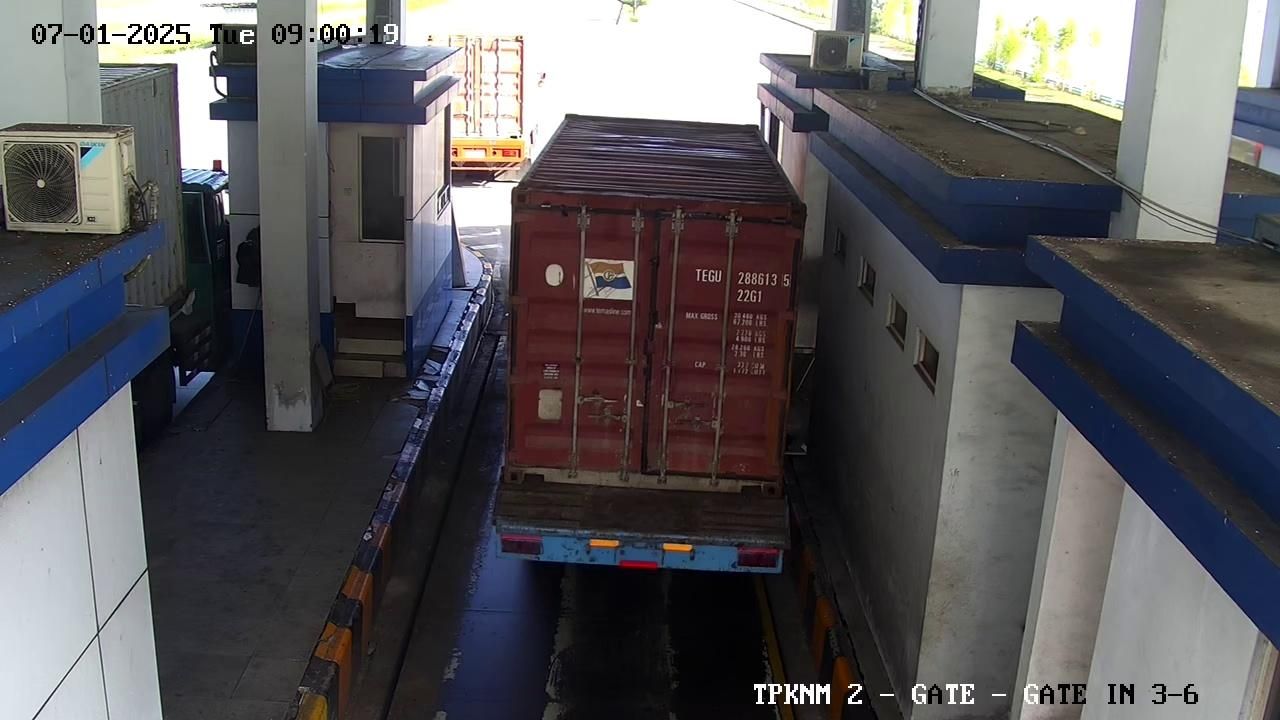Container_ID: (688, 262, 796, 291)
